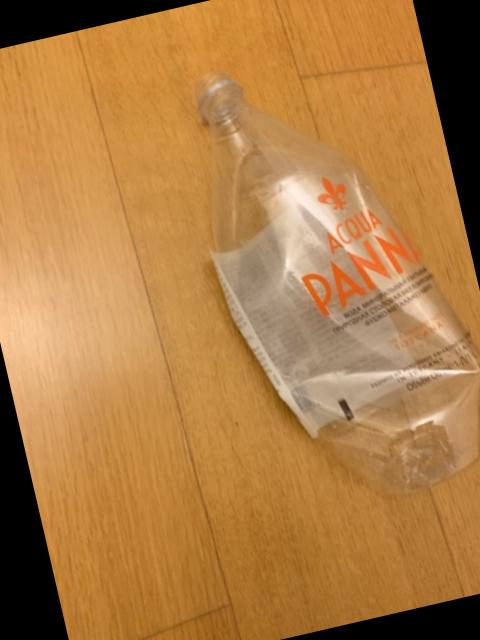plastic: (193, 72, 477, 488)
